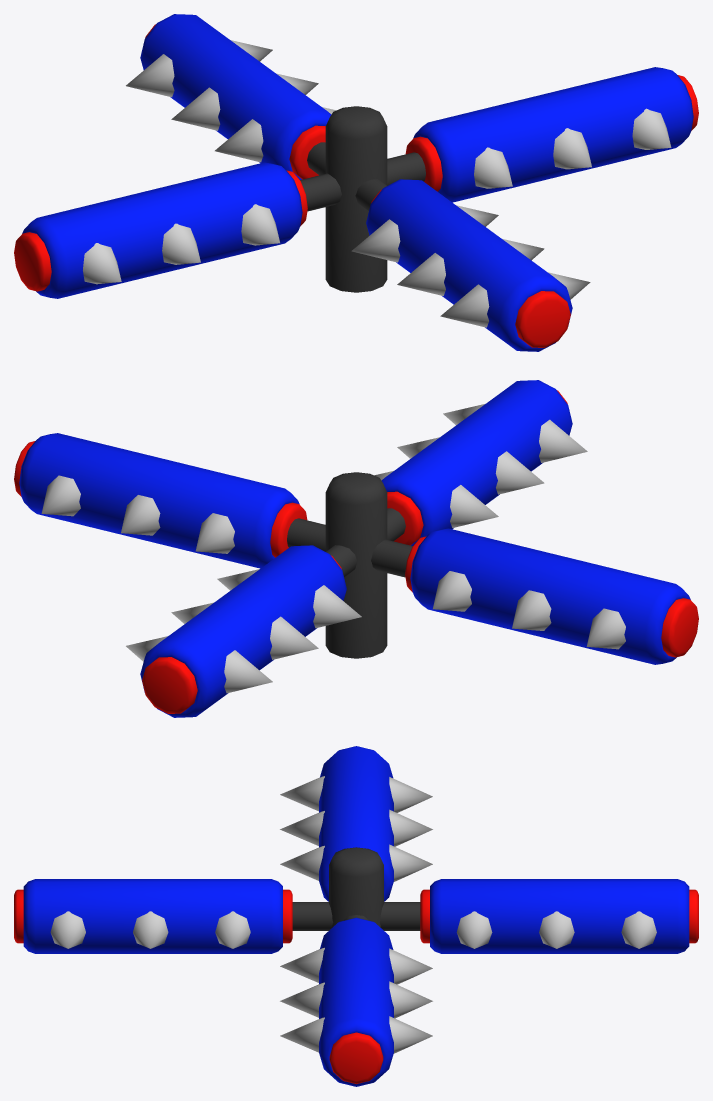
Rendered from Obstacle01.fbx.
The picture shows the model from 3 angles, top to bottom: view 1: azimuth 30°, elevation 25°; view 2: azimuth 150°, elevation 25°; view 3: azimuth 270°, elevation 25°; orthographic projection. The views are drawn at different scales.
Visible parts, largest first — view 1: turning grinder, turning grinder holder; view 2: turning grinder, turning grinder holder; view 3: turning grinder, turning grinder holder.
Boxes of the visible parts, box(x1,y1,x2,y2) form: turning grinder: box(14, 14, 698, 351); turning grinder holder: box(325, 106, 387, 292); turning grinder: box(14, 380, 698, 717); turning grinder holder: box(325, 472, 387, 658); turning grinder: box(14, 746, 698, 1086); turning grinder holder: box(329, 847, 383, 927).
Bounding box in the file's own units: 111 × 26.71 × 111.
